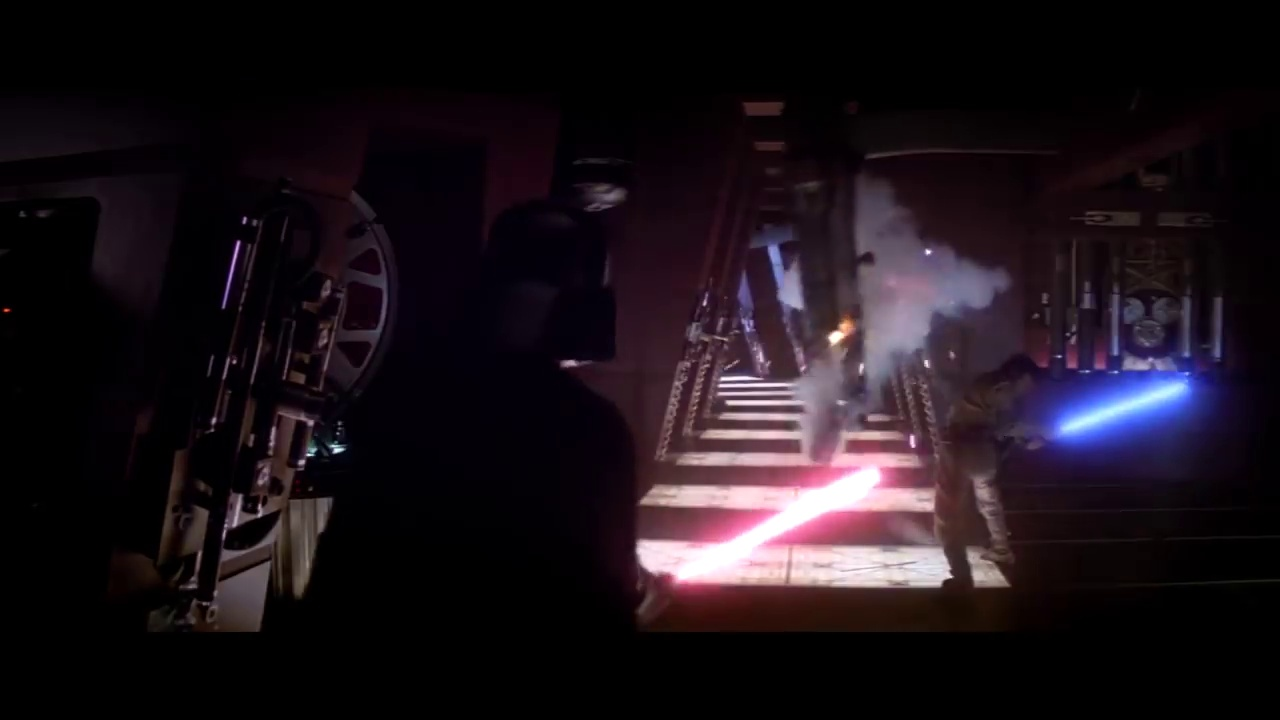lightsaber: (636, 463, 891, 607), (1004, 358, 1203, 449)
